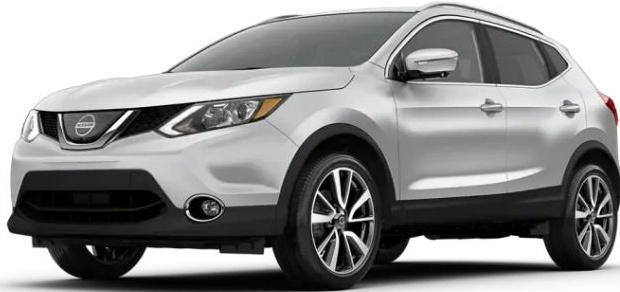SUV: (9, 5, 620, 289)
